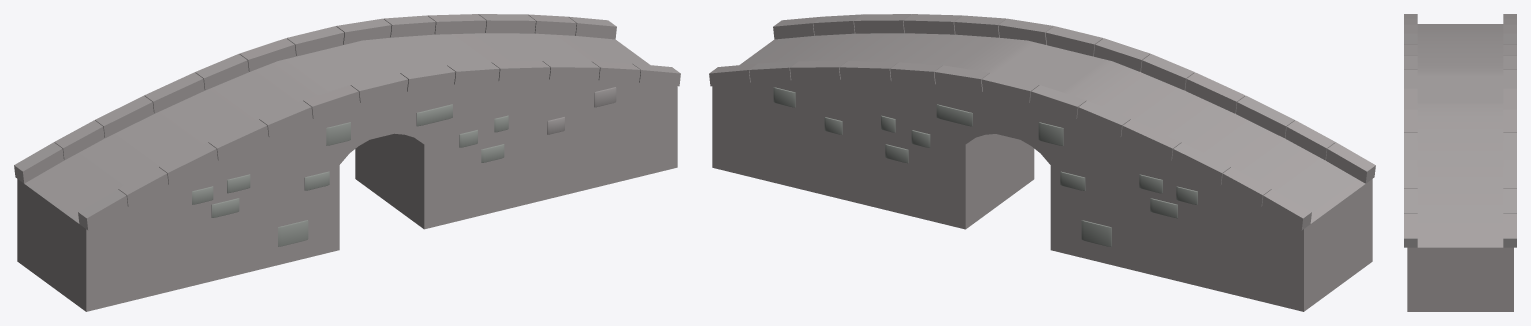
The model's file is StoneBridge.fbx.
3 views of the same model, side by side, from view 1: azimuth 30°, elevation 25°; view 2: azimuth 150°, elevation 25°; view 3: azimuth 270°, elevation 25° (orthographic). The views are drawn at different scales.
Visible parts, largest first — view 1: Cube.035; view 2: Cube.035; view 3: Cube.035.
Part boxes in pixels (<box>): Cube.035: <box>14,14,680,311</box>; Cube.035: <box>709,14,1375,311</box>; Cube.035: <box>1404,14,1516,311</box>.
Size of the model in its own units: 997 by 250 by 212.
Materials: 1 (1 with a texture image).
